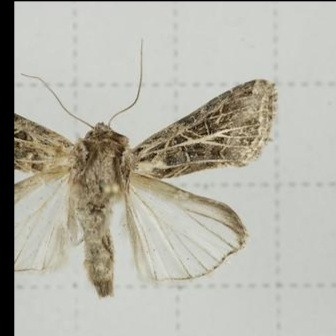Spodoptera litura: (14, 38, 277, 300)
